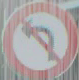Don't turn left: (8, 4, 70, 71)
